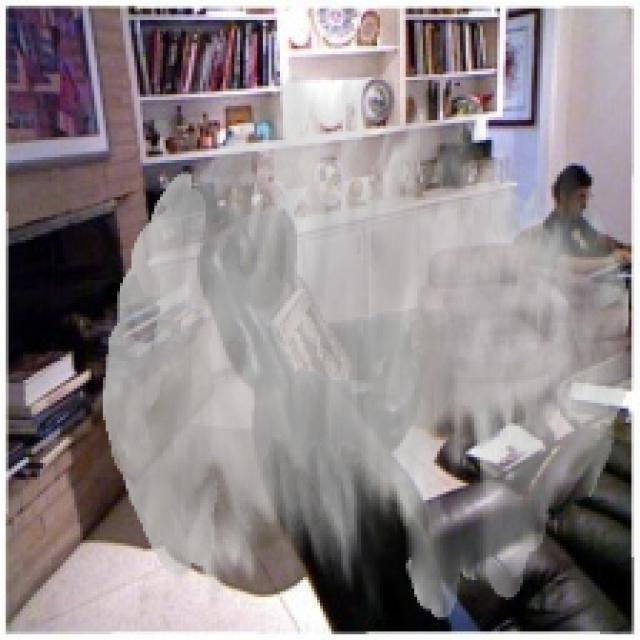smoke: (103, 71, 631, 620)
